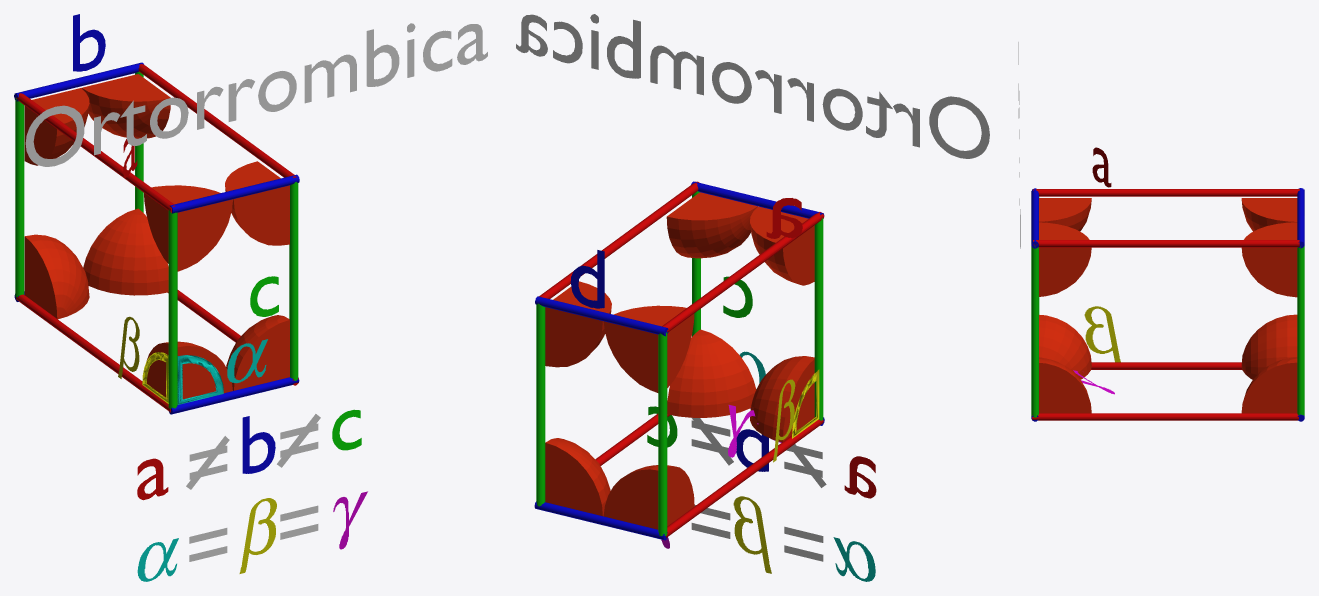
Rendered from ortorrombica.obj.obj.
3 renders of one model, left to right at view 1: azimuth 30°, elevation 25°; view 2: azimuth 150°, elevation 25°; view 3: azimuth 270°, elevation 25°, orthographic. The views are drawn at different scales.
Visible parts, largest first — view 1: Text.132_Text.091, Sphere.036_Sphere.052, Sphere.031_Sphere.047, Sphere.034_Sphere.050, Sphere.033_Sphere.049, Sphere.037_Sphere.053, Sphere.032_Sphere.048, Sphere.035_Sphere.051, Sphere.030_Sphere.046, Cylinder.047_Cylinder.057, Cylinder.045_Cylinder.055, Cylinder.039_Cylinder.049 (+14 smaller); view 2: Text.132_Text.091, Sphere.032_Sphere.048, Sphere.035_Sphere.051, Sphere.033_Sphere.049, Sphere.034_Sphere.050, Sphere.036_Sphere.052, Sphere.030_Sphere.046, Sphere.037_Sphere.053, Sphere.031_Sphere.047, Cylinder.045_Cylinder.055, Cylinder.042_Cylinder.052, Cylinder.047_Cylinder.057 (+15 smaller); view 3: Sphere.037_Sphere.053, Sphere.033_Sphere.049, Sphere.036_Sphere.052, Sphere.034_Sphere.050, Sphere.032_Sphere.048, Sphere.030_Sphere.046, Cylinder.041_Cylinder.051, Cylinder.040_Cylinder.050, Cylinder.048_Cylinder.058, Sphere.035_Sphere.051, Sphere.031_Sphere.047, Cylinder.039_Cylinder.049 (+6 smaller).
Boxes of the visible parts, <box> form: Text.132_Text.091: <box>25,23,487,166</box>; Sphere.036_Sphere.052: <box>83,208,168,295</box>; Sphere.031_Sphere.047: <box>144,185,232,271</box>; Sphere.034_Sphere.050: <box>24,234,89,319</box>; Sphere.033_Sphere.049: <box>225,161,289,245</box>; Sphere.037_Sphere.053: <box>82,74,170,138</box>; Sphere.032_Sphere.048: <box>226,315,289,390</box>; Sphere.035_Sphere.051: <box>24,88,89,165</box>; Sphere.030_Sphere.046: <box>146,341,232,399</box>; Cylinder.047_Cylinder.057: <box>168,209,177,408</box>; Cylinder.045_Cylinder.055: <box>15,98,24,297</box>; Cylinder.039_Cylinder.049: <box>289,182,298,380</box>; Text.132_Text.091: <box>516,14,989,158</box>; Sphere.032_Sphere.048: <box>667,329,756,417</box>; Sphere.035_Sphere.051: <box>603,305,694,392</box>; Sphere.033_Sphere.049: <box>666,192,757,258</box>; Sphere.034_Sphere.050: <box>603,465,694,529</box>; Sphere.036_Sphere.052: <box>545,438,610,516</box>; Sphere.030_Sphere.046: <box>750,356,814,442</box>; Sphere.037_Sphere.053: <box>545,281,611,367</box>; Sphere.031_Sphere.047: <box>750,206,814,285</box>; Cylinder.045_Cylinder.055: <box>658,332,667,536</box>; Cylinder.042_Cylinder.052: <box>536,303,545,506</box>; Cylinder.047_Cylinder.057: <box>814,218,823,420</box>; Sphere.037_Sphere.053: <box>1241,222,1297,297</box>; Sphere.033_Sphere.049: <box>1039,222,1091,296</box>; Sphere.036_Sphere.052: <box>1241,357,1297,413</box>; Sphere.034_Sphere.050: <box>1241,314,1297,379</box>; Sphere.032_Sphere.048: <box>1039,357,1091,413</box>; Sphere.030_Sphere.046: <box>1039,314,1091,379</box>; Cylinder.041_Cylinder.051: <box>1033,240,1299,247</box>; Cylinder.040_Cylinder.050: <box>1032,413,1298,420</box>; Cylinder.048_Cylinder.058: <box>1033,189,1299,196</box>; Sphere.035_Sphere.051: <box>1241,198,1297,231</box>; Sphere.031_Sphere.047: <box>1039,198,1091,231</box>; Cylinder.039_Cylinder.049: <box>1031,245,1038,417</box>.
Bounding box in the file's own units: 1.96 × 2.07 × 1.21.
